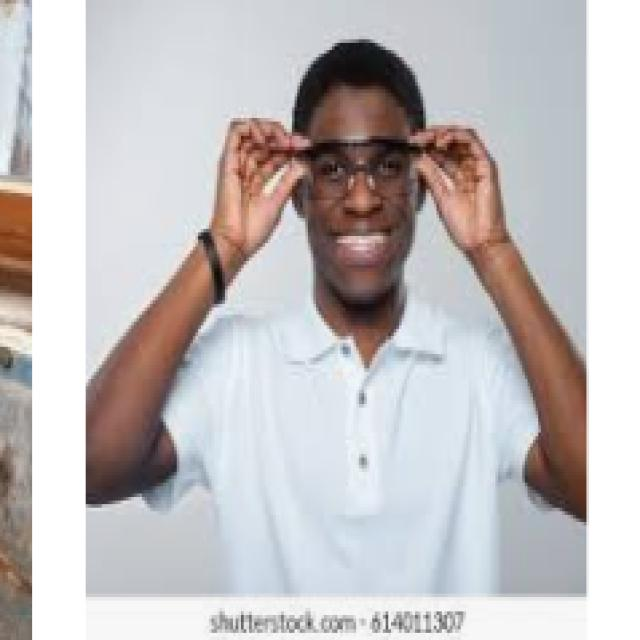glasses: (284, 124, 437, 193)
